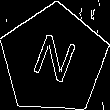N_S: (27, 29, 81, 91)
